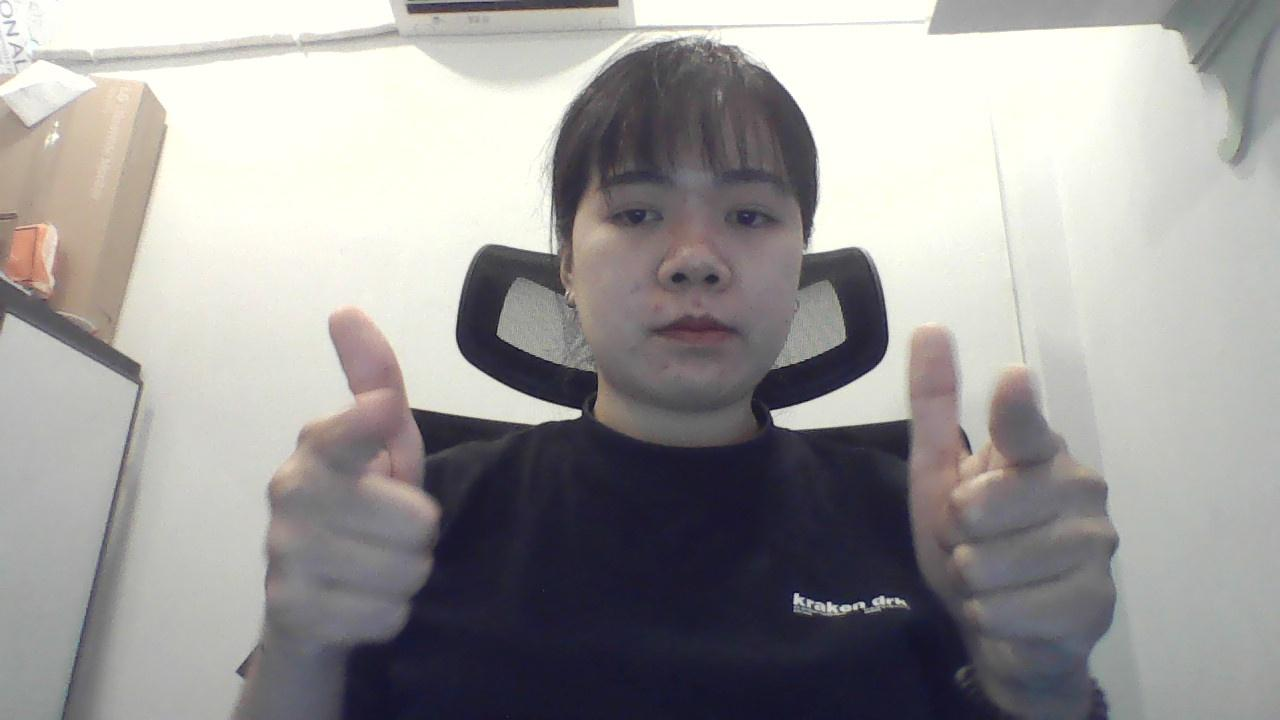G: (890, 299, 1130, 691), (212, 291, 459, 667)
